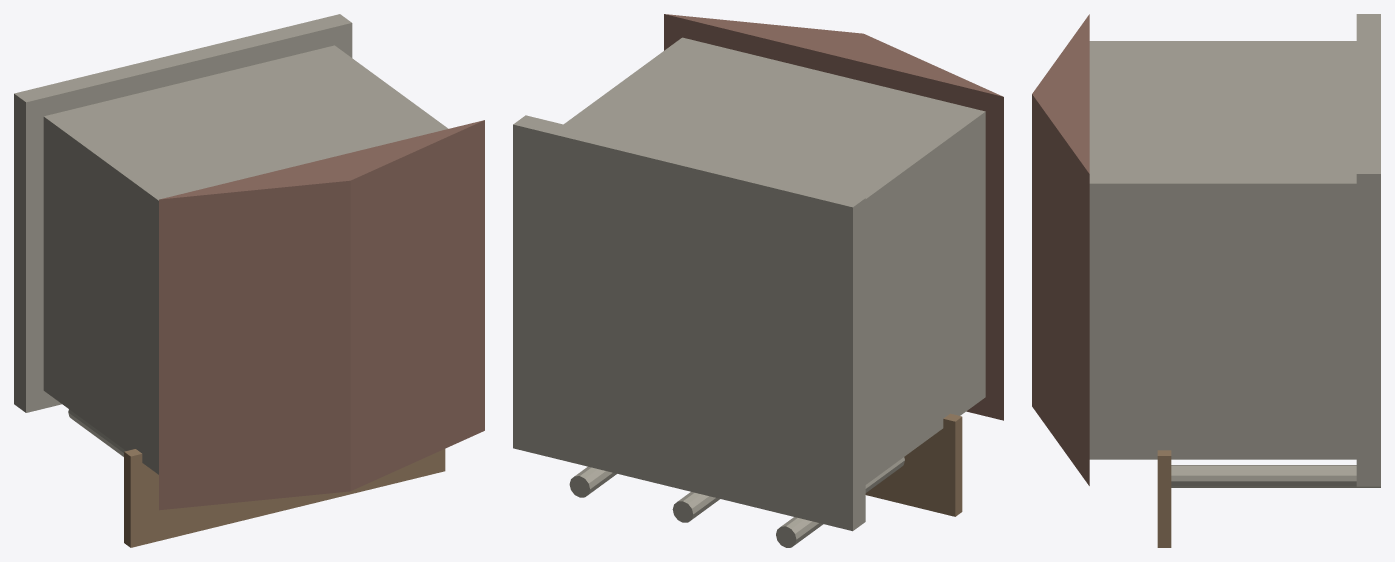
Rendered from AGE_II_commercial.glb.
3 views of the same model, side by side, from view 1: azimuth 30°, elevation 25°; view 2: azimuth 150°, elevation 25°; view 3: azimuth 270°, elevation 25° (orthographic). The views are drawn at different scales.
Parts seen in each view (by area): view 1: world; view 2: world; view 3: world.
Part boxes in pixels (x1,y1,x2,y2): world: (14, 14, 484, 547); world: (513, 14, 1003, 547); world: (1032, 14, 1380, 547).
Size of the model in its own units: 5.6 by 6.15 by 5.16.
